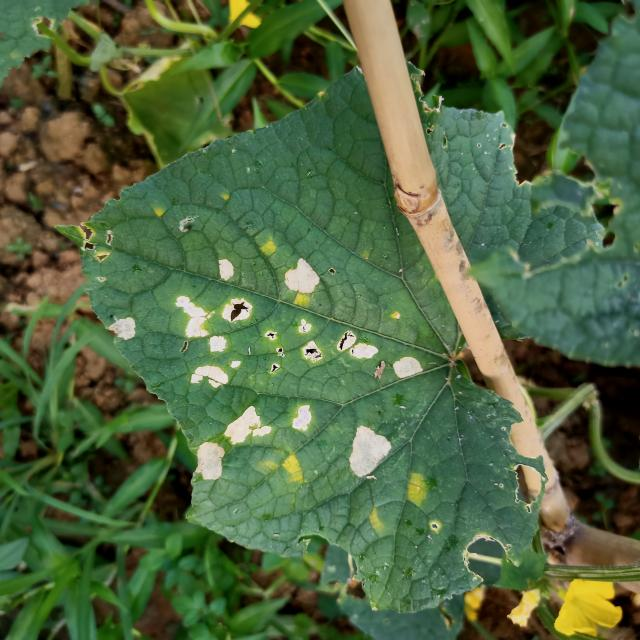disease_cucumber: (167, 242, 428, 390), (190, 397, 272, 479), (341, 418, 396, 485), (99, 303, 152, 342), (399, 466, 435, 509), (276, 449, 313, 487), (286, 394, 322, 432), (361, 502, 390, 536), (254, 234, 282, 260)
